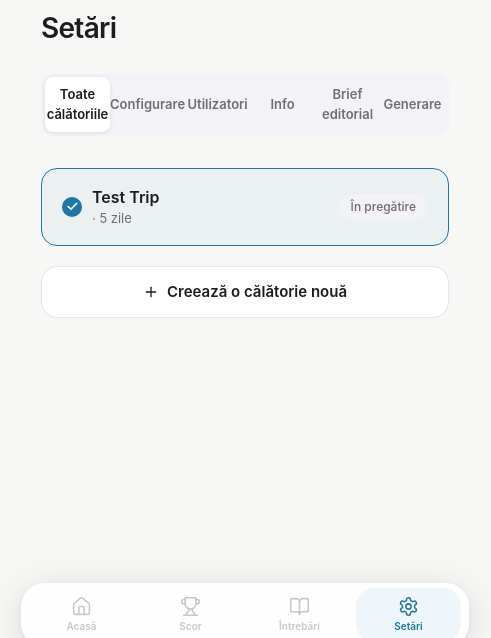
Test case: Trip editorial brief: editable form before publication › shows the form's own visible/editable defaults when the trip has no brief yet
This screenshot has width=491, height=638.
Click the button "Brief editorial".
click(348, 104)  # box [315,77,380,132]
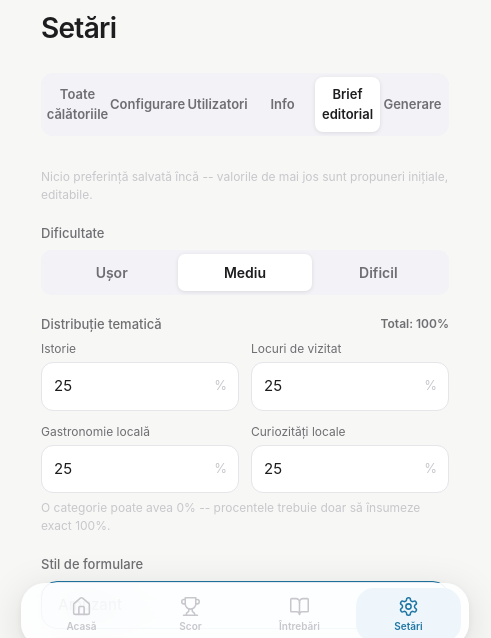
Result: the number field labelled "Istorie" holds "25" at [41,362,239,410]
Result: the number field labelled "Locuri de vizitat" holds "25" at [251,362,449,410]
Result: the button "Mediu" is shown at [178,254,312,290]
